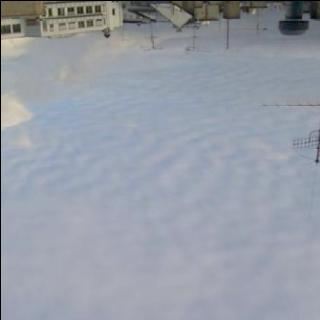Altocumulus: (0, 38, 313, 320)
